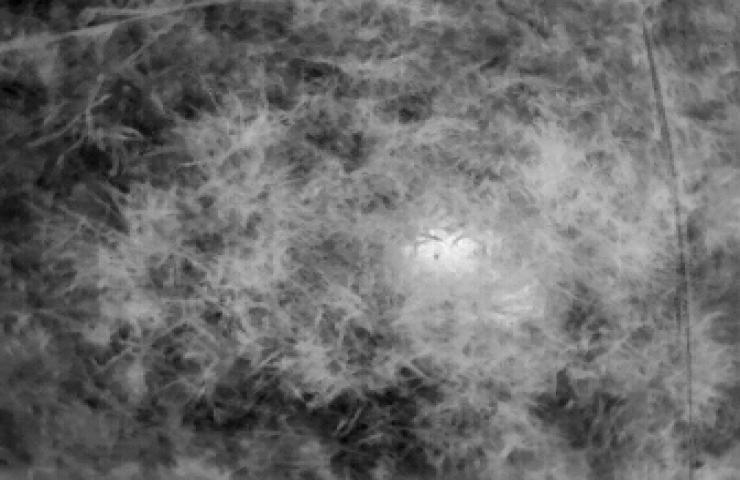landmines: (405, 222, 493, 281)
